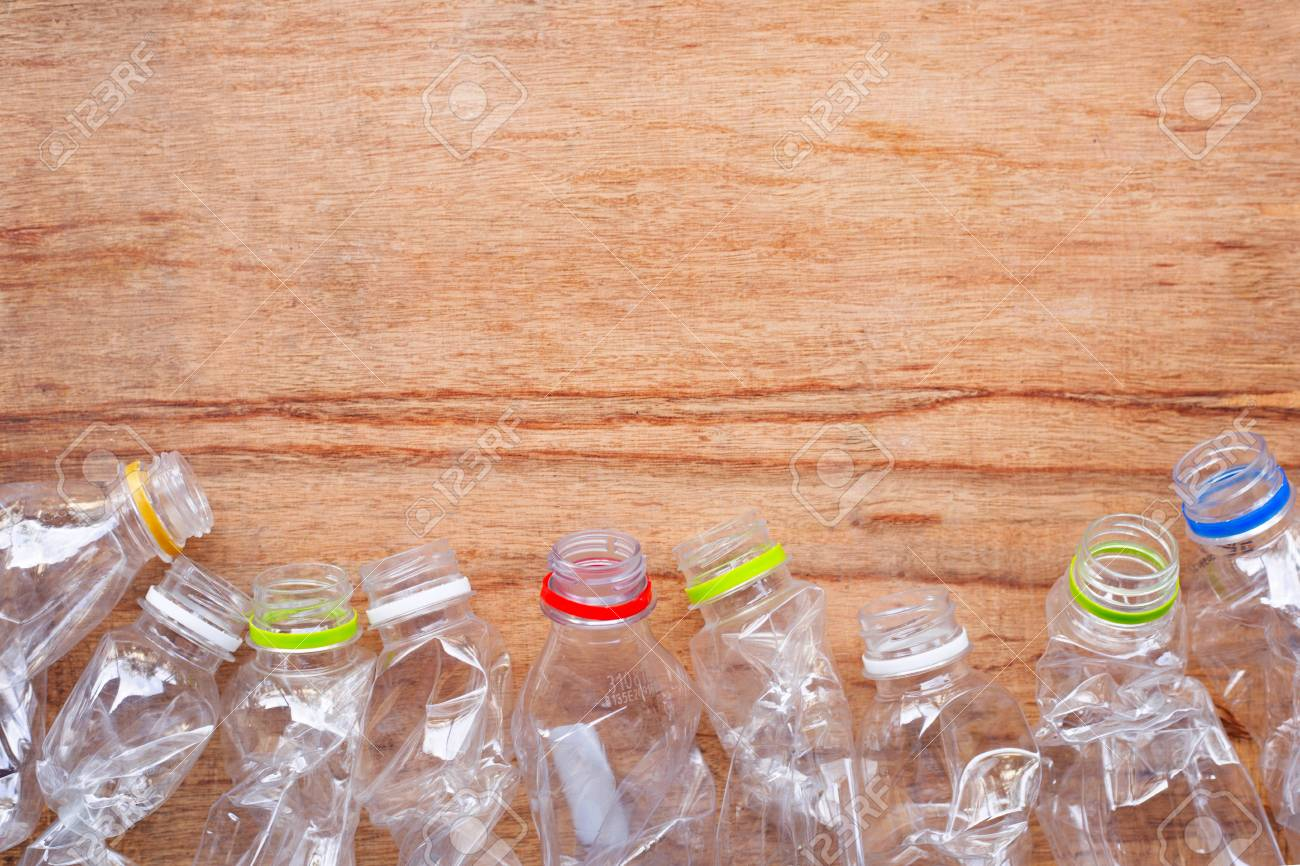plastic_bottle: (975, 406, 1298, 866), (1, 376, 278, 866), (1090, 281, 1300, 861), (635, 401, 878, 866), (482, 452, 749, 866), (165, 438, 411, 866), (795, 480, 1058, 866), (337, 437, 554, 866), (1, 522, 259, 866)
